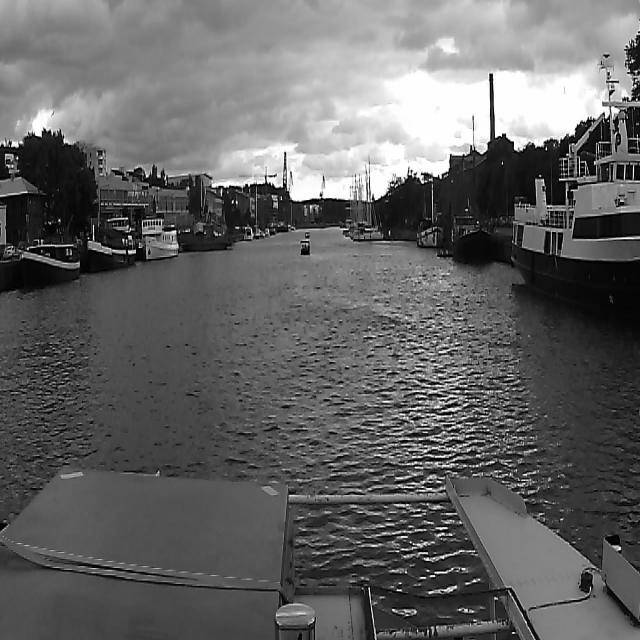ship: (508, 50, 640, 321), (15, 214, 81, 294), (352, 135, 394, 252), (445, 194, 497, 262), (86, 214, 140, 275), (179, 218, 237, 258), (140, 212, 183, 262), (413, 181, 441, 249), (185, 227, 231, 248), (298, 233, 312, 259), (304, 232, 309, 239)
